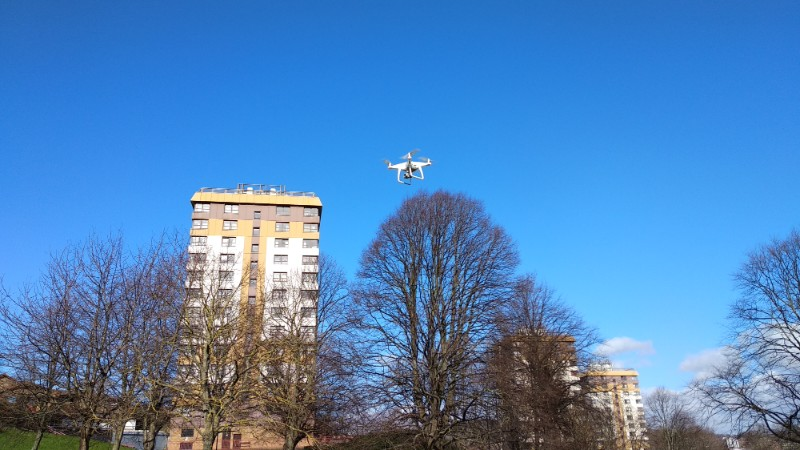drone: (383, 148, 436, 186)
